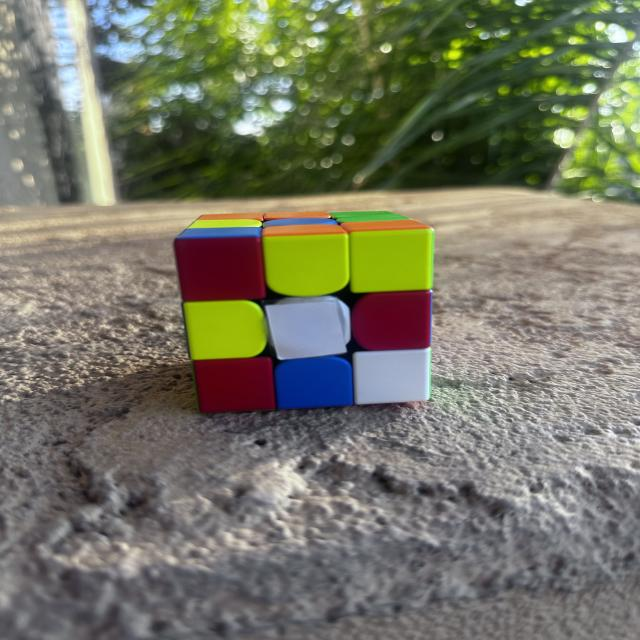sticker: (174, 228, 268, 304), (343, 219, 434, 296), (260, 222, 352, 298), (261, 294, 354, 361), (182, 300, 269, 362), (350, 290, 434, 354), (189, 355, 277, 415), (350, 347, 435, 406), (274, 356, 355, 410), (186, 217, 263, 229), (330, 210, 406, 222), (262, 218, 339, 228), (262, 211, 334, 221), (193, 213, 266, 222)
